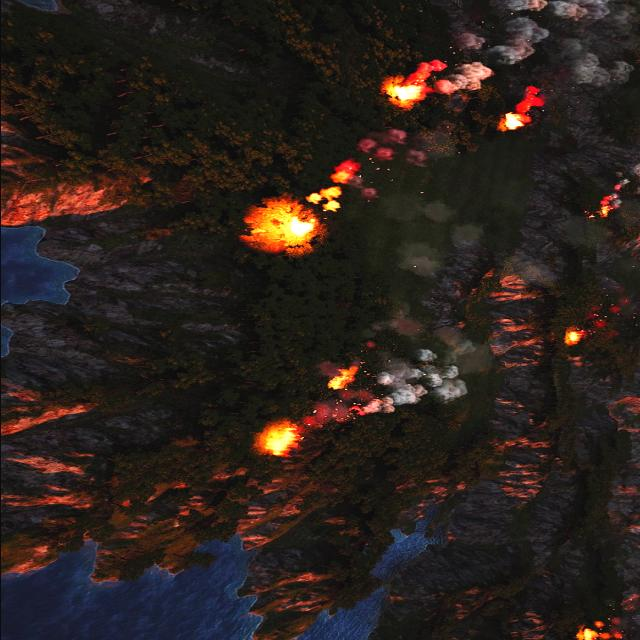fire: (245, 162, 363, 248), (384, 62, 442, 106), (500, 86, 542, 132), (260, 424, 298, 455), (385, 80, 427, 106), (326, 364, 360, 392), (583, 194, 619, 218), (576, 622, 620, 640), (562, 326, 589, 346), (564, 331, 578, 345)
smoke: (421, 0, 637, 96), (310, 130, 432, 210), (374, 334, 489, 408)
